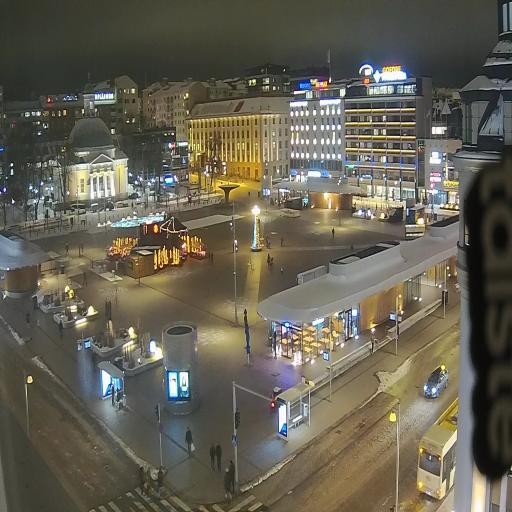Bus: (416, 402, 462, 500)
